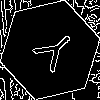Y: (25, 25, 80, 80)
